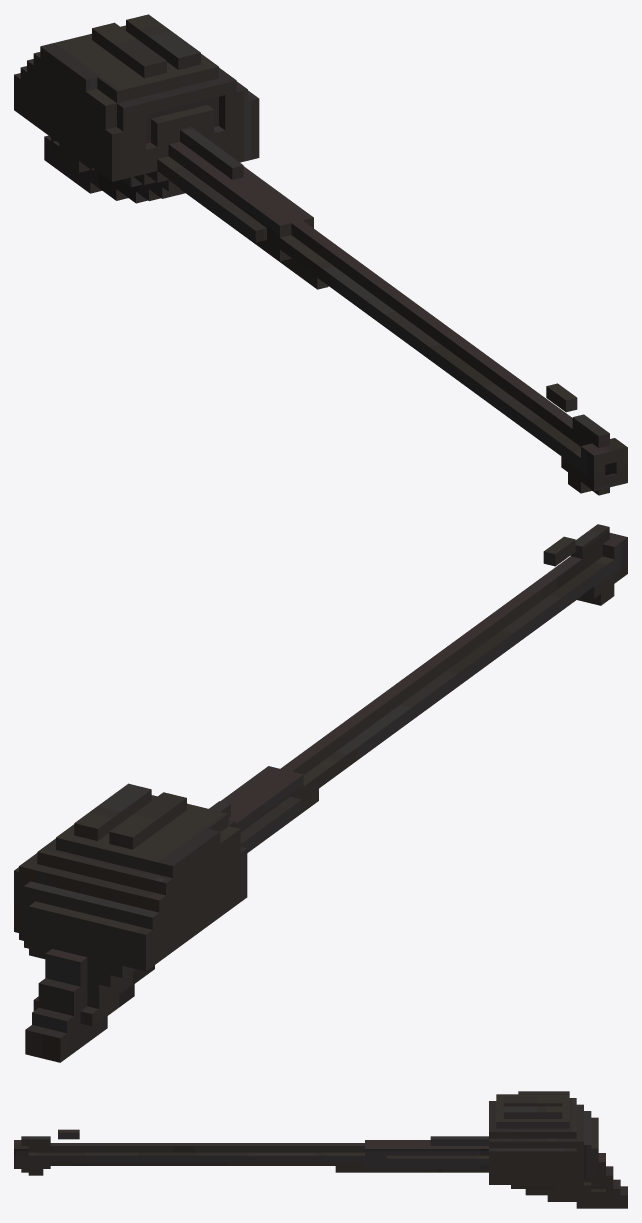
The model's file is Enemy_Speedy_LeftArm.obj.
The picture shows the model from 3 angles, top to bottom: view 1: azimuth 30°, elevation 25°; view 2: azimuth 150°, elevation 25°; view 3: azimuth 270°, elevation 25°; orthographic projection. The views are drawn at different scales.
Visible parts, largest first — view 1: Mech_-_SlimFast-4; view 2: Mech_-_SlimFast-4; view 3: Mech_-_SlimFast-4.
Part boxes in pixels (x1=…): Mech_-_SlimFast-4: x1=14, y1=14, x2=627, y2=495; Mech_-_SlimFast-4: x1=14, y1=524, x2=627, y2=1062; Mech_-_SlimFast-4: x1=14, y1=1091, x2=627, y2=1208.
Bounding box in the file's own units: 1.3 × 1.5 × 8.4.
Materials: 1 (1 with a texture image).
